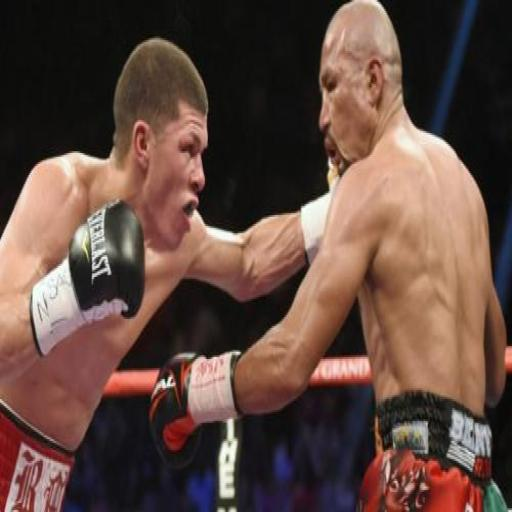boxing: (147, 0, 508, 510), (0, 35, 349, 508)
